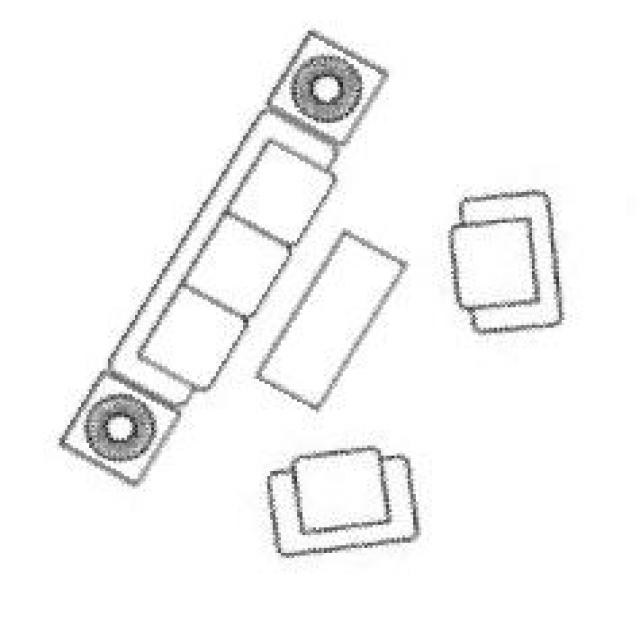sofa: (49, 23, 572, 561)
